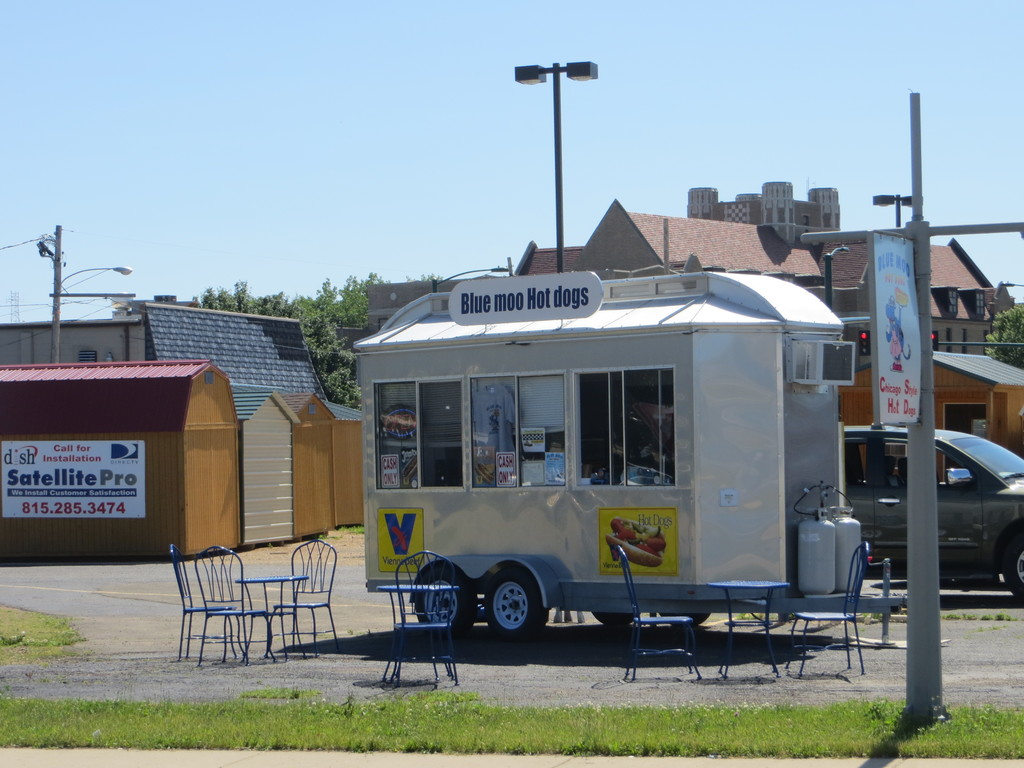Car: (828, 423, 1020, 610)
